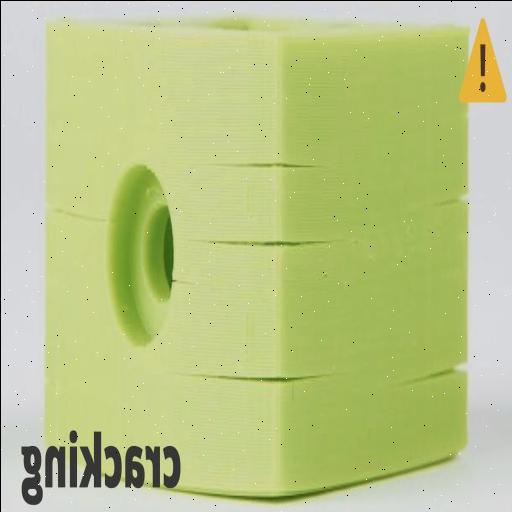cracks: (186, 226, 348, 254), (171, 362, 345, 388), (198, 152, 324, 178), (388, 352, 466, 392), (49, 203, 115, 229), (428, 185, 468, 215), (172, 270, 198, 286)
